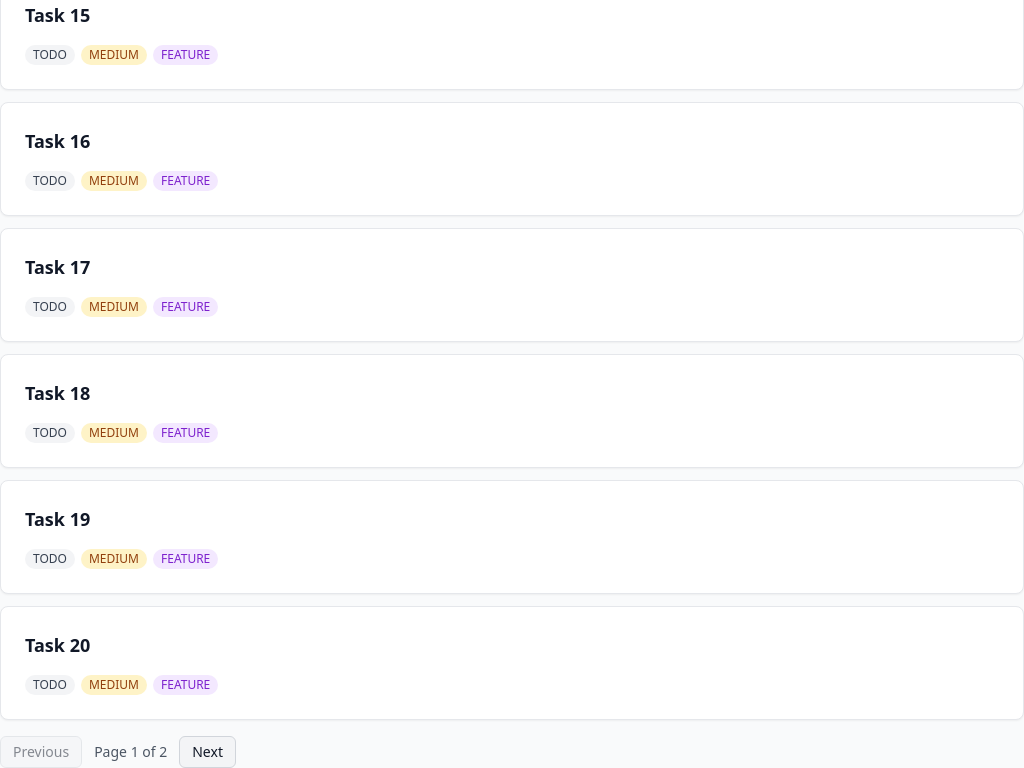
Task list search and filters (behavior) › changing filters resets to page 1 (behavior)
The image size is (1024, 768).
(page scrolled)
Click the button "Next" at (208, 752), box x1=179 y1=736 x2=236 y2=767
(page scrolled)
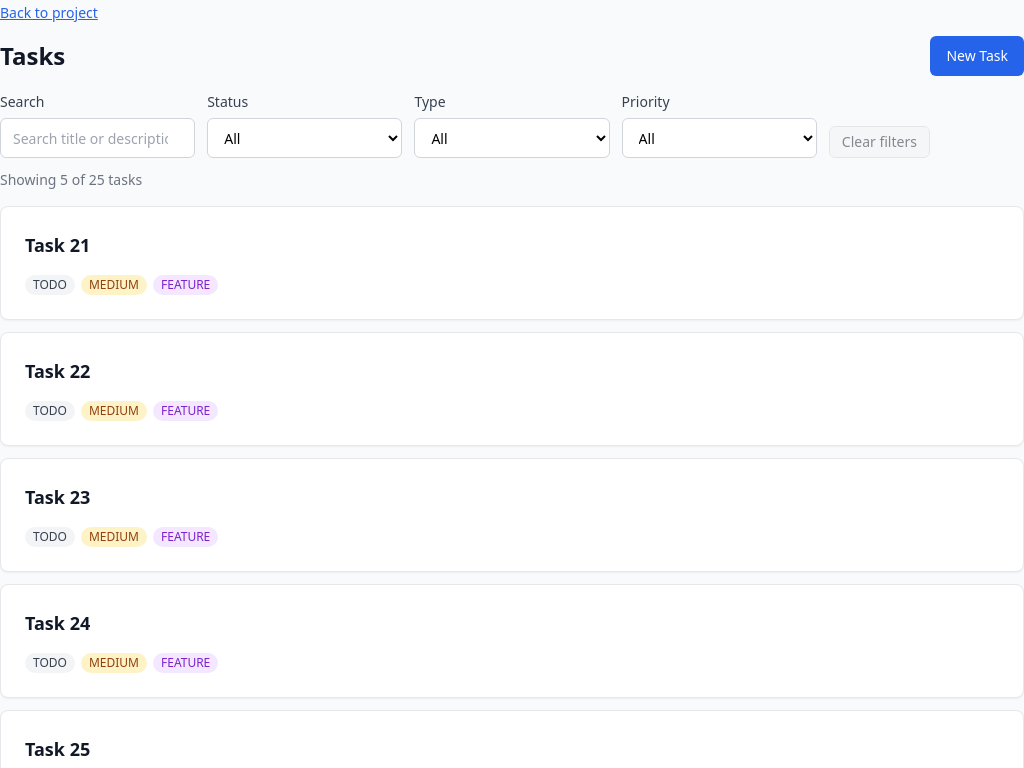
Select "TODO" in the dropdown labelled "Status" at (305, 138), box x1=207 y1=118 x2=402 y2=158
(page scrolled)
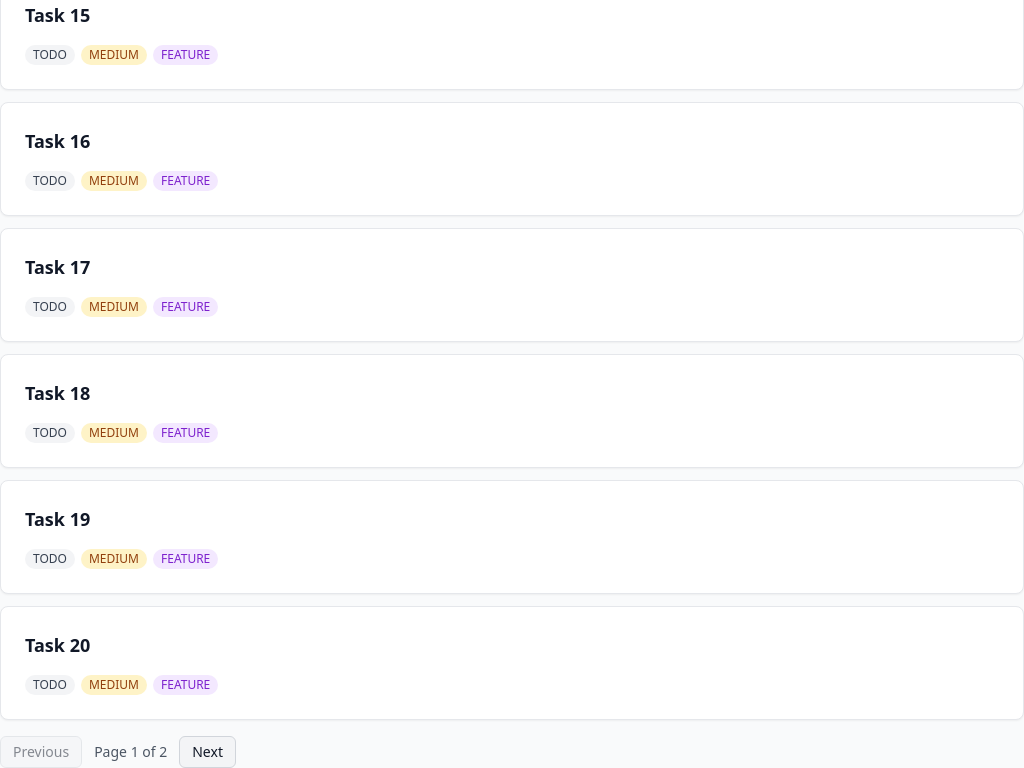
Result: the text "Page 1 of 2" is shown at x1=94 y1=742 x2=167 y2=762
